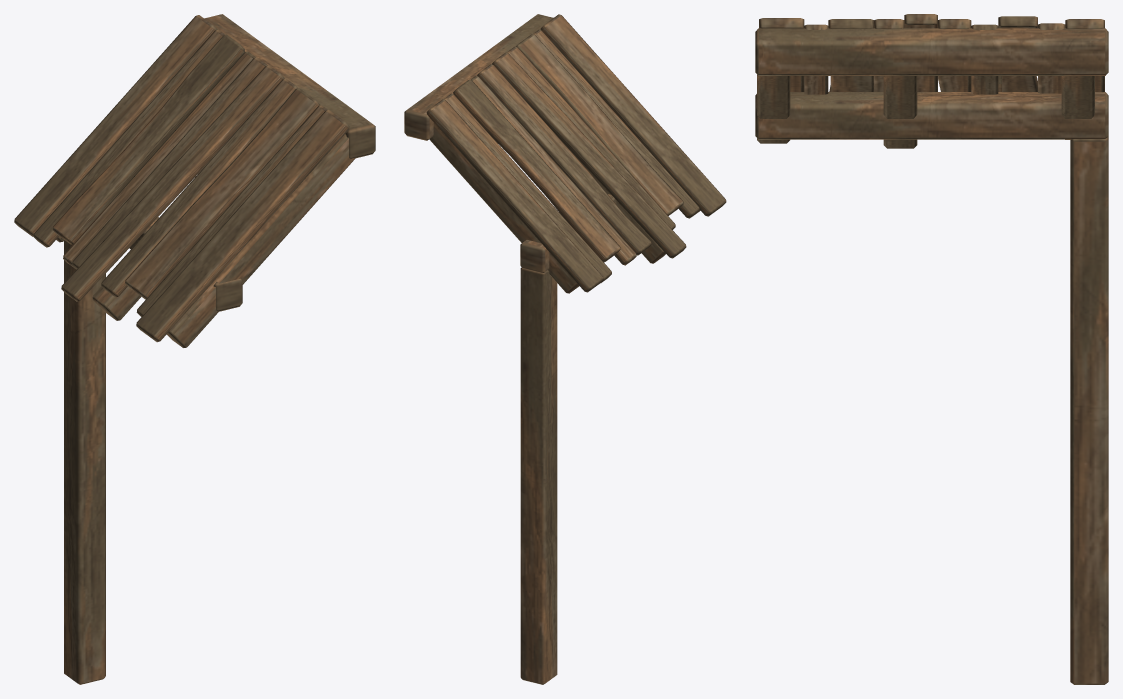
File: SM_woooden_street_roof_03.fbx
3 renders of one model, left to right at view 1: azimuth 30°, elevation 25°; view 2: azimuth 150°, elevation 25°; view 3: azimuth 270°, elevation 25°, orthographic. The views are drawn at different scales.
Parts seen in each view (by area): view 1: SM_woooden_street_roof_03_LOD0; view 2: SM_woooden_street_roof_03_LOD0; view 3: SM_woooden_street_roof_03_LOD0.
Part boxes in pixels (x1=…): SM_woooden_street_roof_03_LOD0: x1=14, y1=14, x2=375, y2=684; SM_woooden_street_roof_03_LOD0: x1=404, y1=14, x2=726, y2=684; SM_woooden_street_roof_03_LOD0: x1=755, y1=14, x2=1108, y2=684.
Size of the model in its own units: 190 by 212 by 482.
2 materials, 2 textured.
